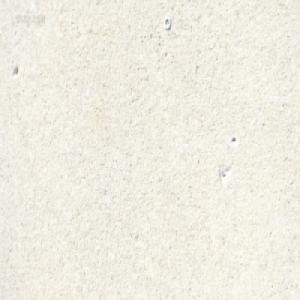Washer: (163, 16, 171, 30)
